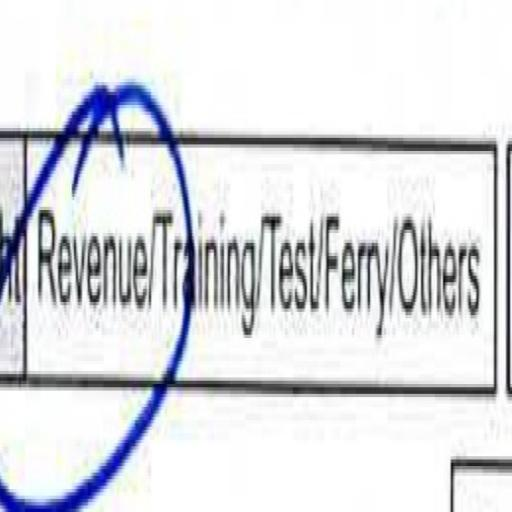check: (19, 62, 153, 492)
